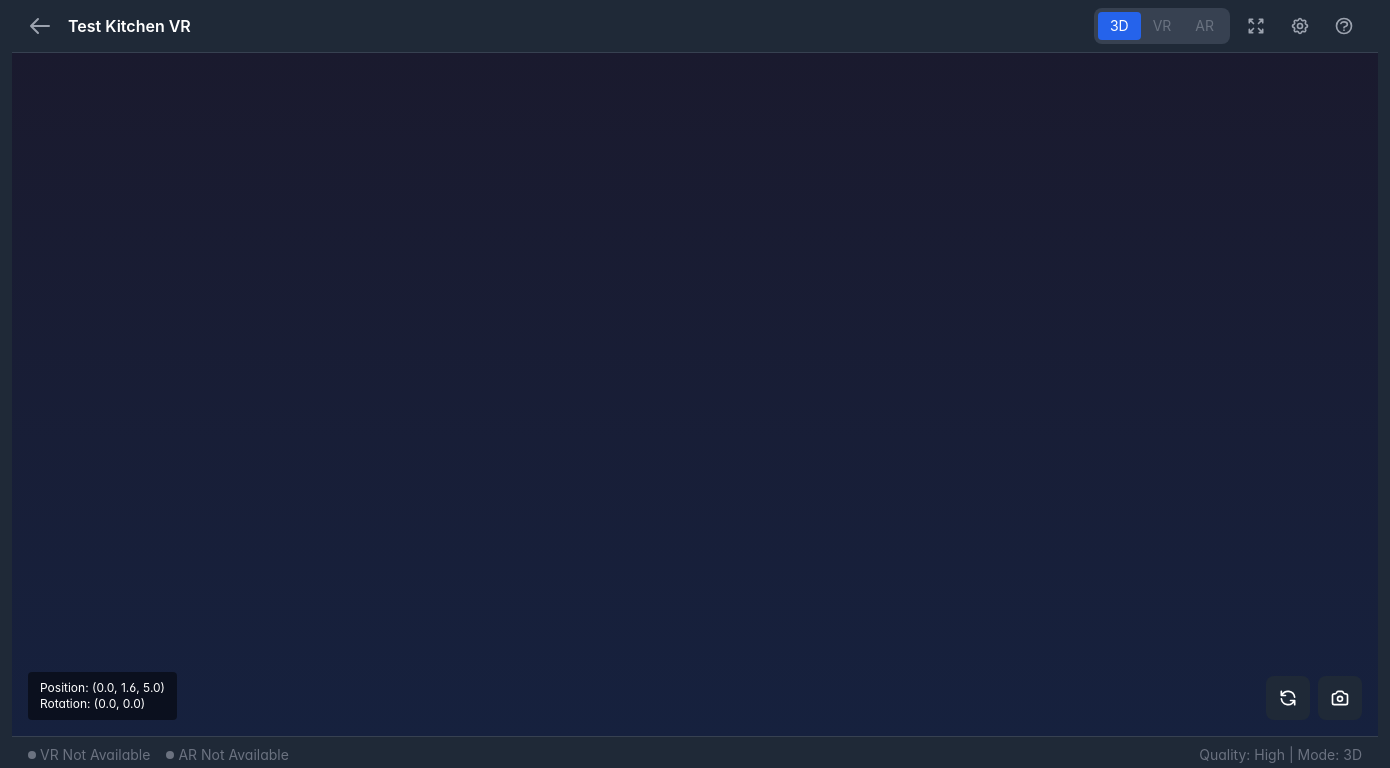
Test: VRViewer › Settings Panel › should show settings panel when settings button is clicked
Check: the heading "Test Kitchen VR" is shown, box [68,14,191,38]
Click the button titled "Settings": (1300, 26) [1282,8,1318,44]
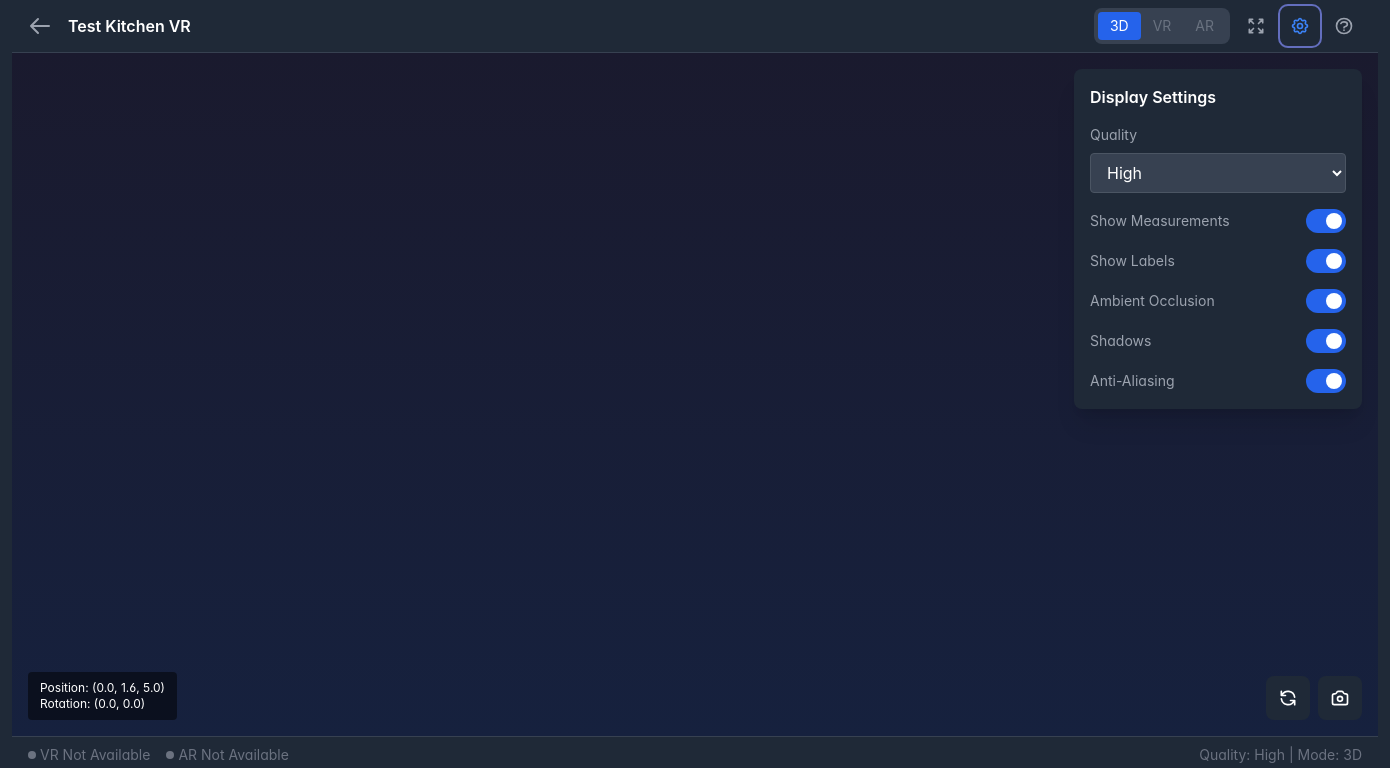
Check: the heading "Display Settings" is shown, box [1090,87,1216,107]
